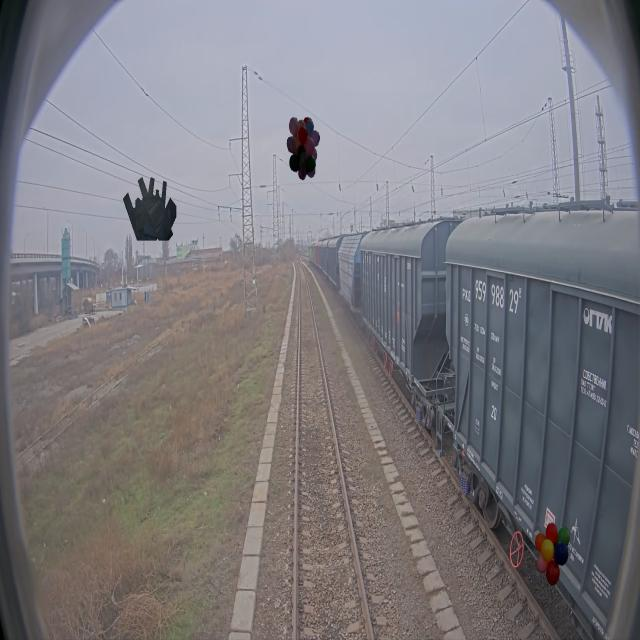balloon: (534, 522, 570, 586), (287, 116, 320, 180)
plastic bag: (122, 177, 176, 240)
